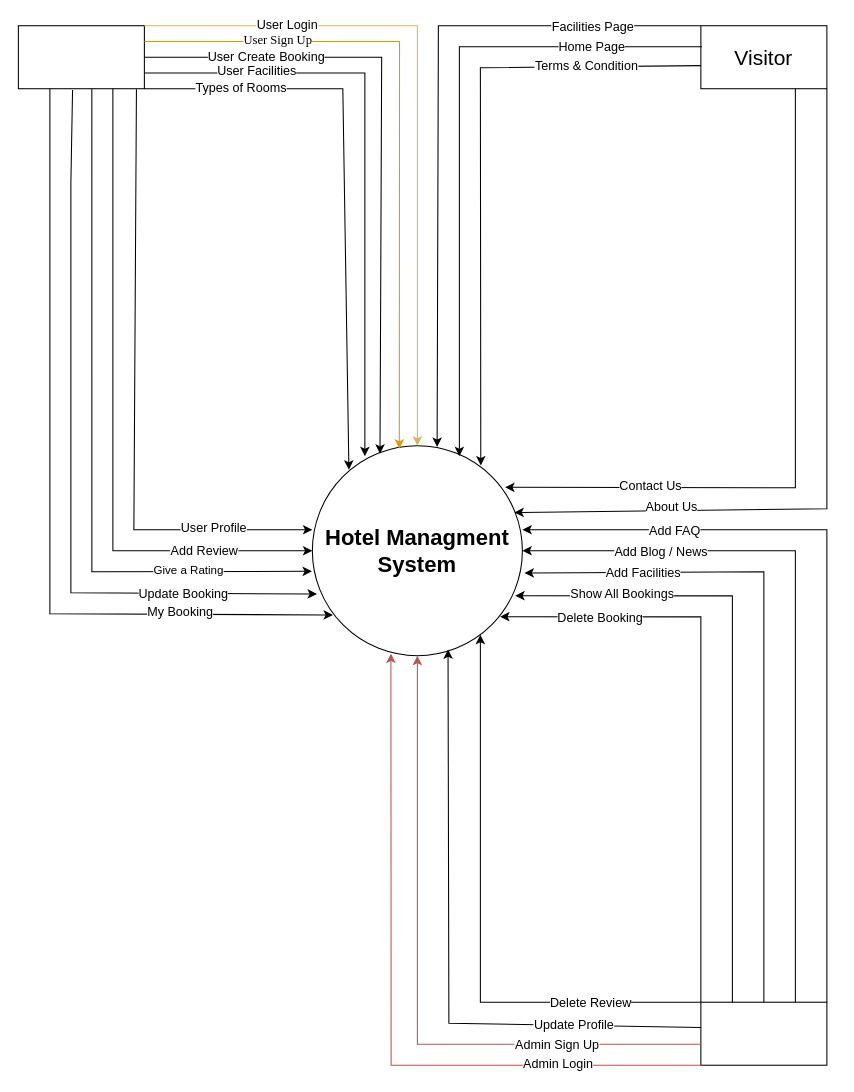
Image size: 854x1092. Some labels were removed from this diagram. Each missing label, with the centre of its shape:
"Admin" belongs at (x=763, y=1033).
"User" belongs at (x=80, y=57).
